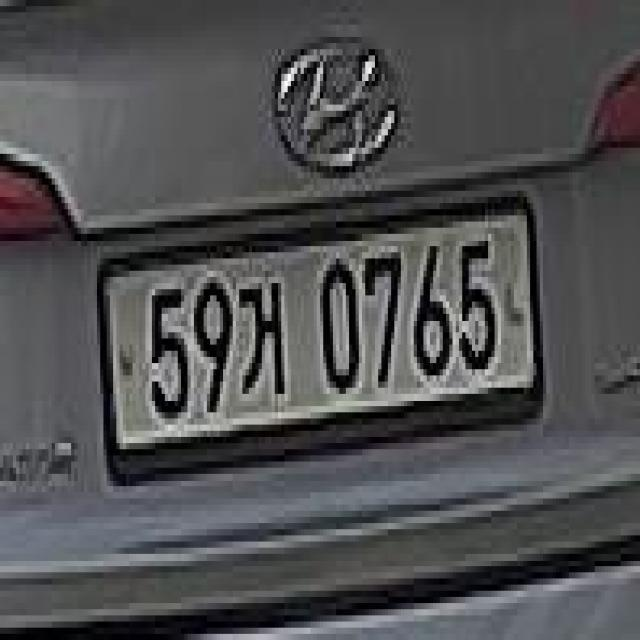0: (321, 244, 361, 402)
5: (459, 232, 504, 378), (145, 276, 188, 426)
6: (409, 232, 457, 393)
7: (364, 240, 406, 396)
9: (192, 268, 235, 421)
geo: (239, 267, 288, 408)
license_plate: (82, 169, 558, 516)
